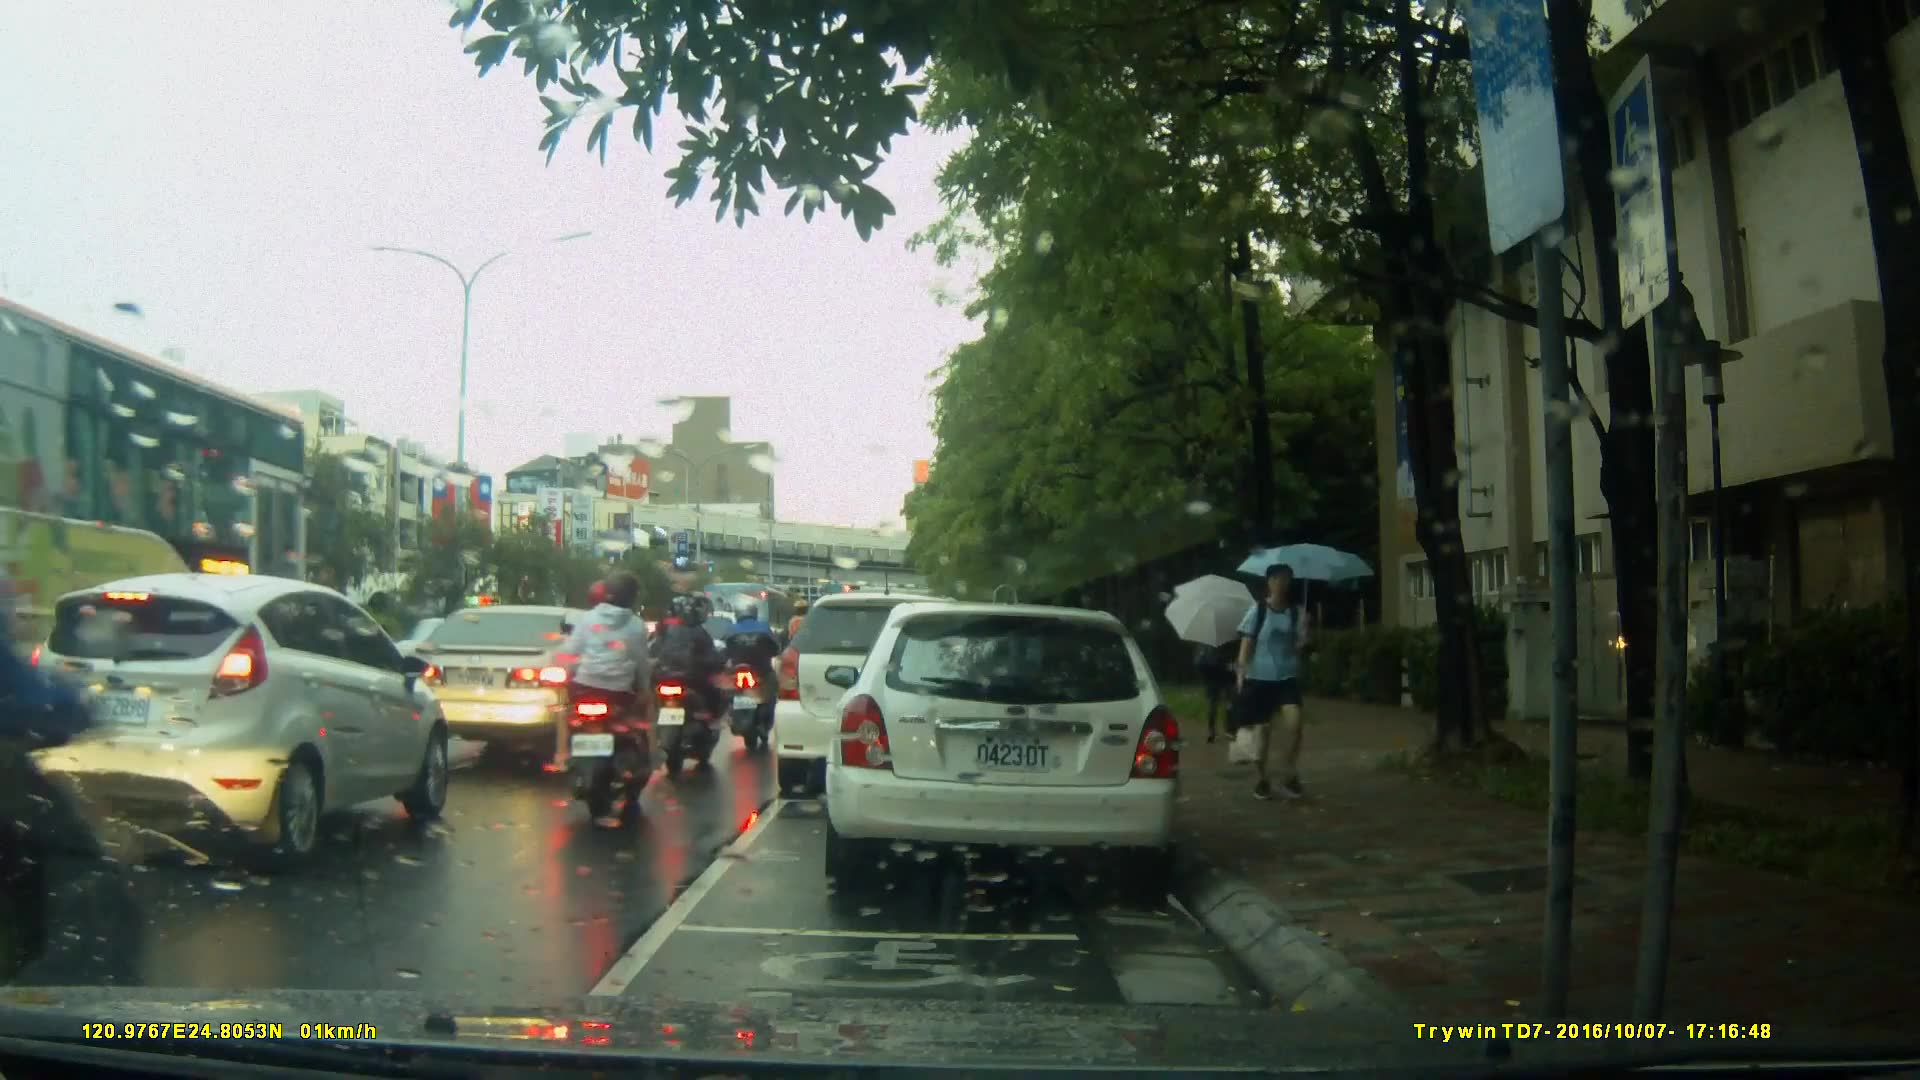pedestrian: (1225, 555, 1320, 813), (1207, 598, 1256, 741)
rider: (552, 565, 665, 838), (654, 591, 721, 780), (722, 594, 781, 746), (786, 597, 823, 733)
vehicle: (1, 293, 316, 765), (10, 569, 453, 872), (835, 594, 1194, 898), (776, 590, 1026, 784), (383, 603, 643, 767), (603, 619, 728, 717), (703, 581, 810, 672)
